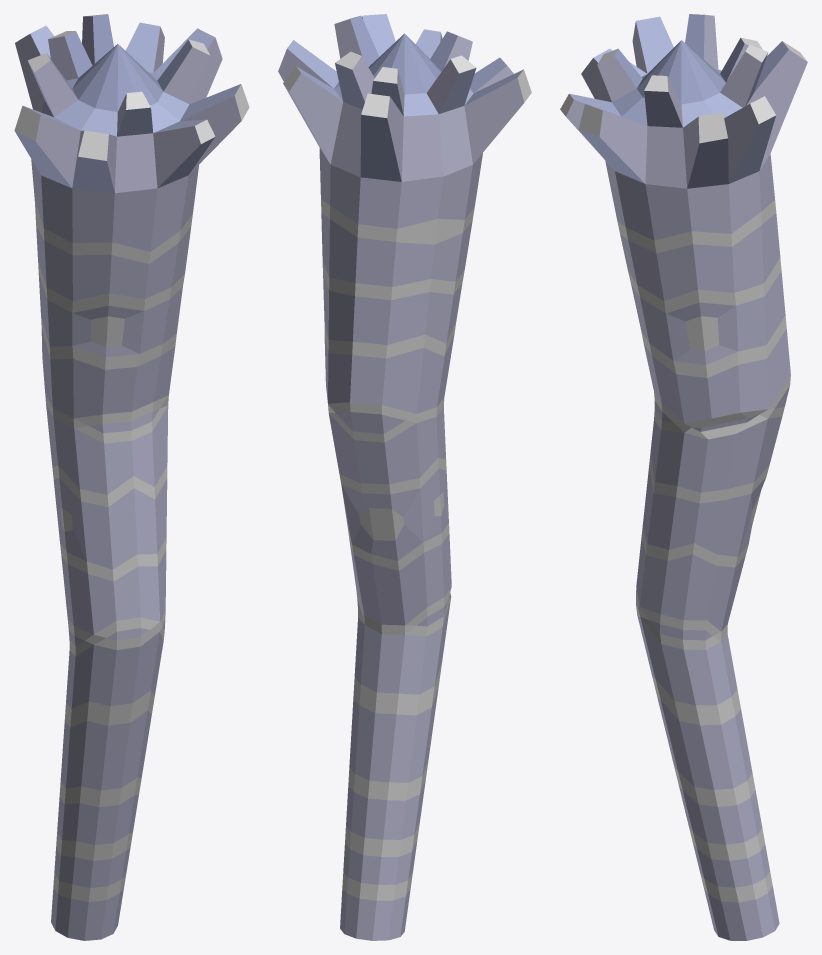
File: Prop_Plant_Palmtree_Short.fbx
The picture shows the model from 3 angles, left to right: view 1: azimuth 30°, elevation 25°; view 2: azimuth 150°, elevation 25°; view 3: azimuth 270°, elevation 25°; orthographic projection. The views are drawn at different scales.
Visible parts, largest first — view 1: Model_Palmtree_Short; view 2: Model_Palmtree_Short; view 3: Model_Palmtree_Short.
Part boxes in pixels (bbox=[...]): Model_Palmtree_Short: bbox=[14, 14, 249, 940]; Model_Palmtree_Short: bbox=[278, 14, 531, 940]; Model_Palmtree_Short: bbox=[560, 14, 807, 940].
Bounding box in the file's own units: 458 × 1746 × 440.
